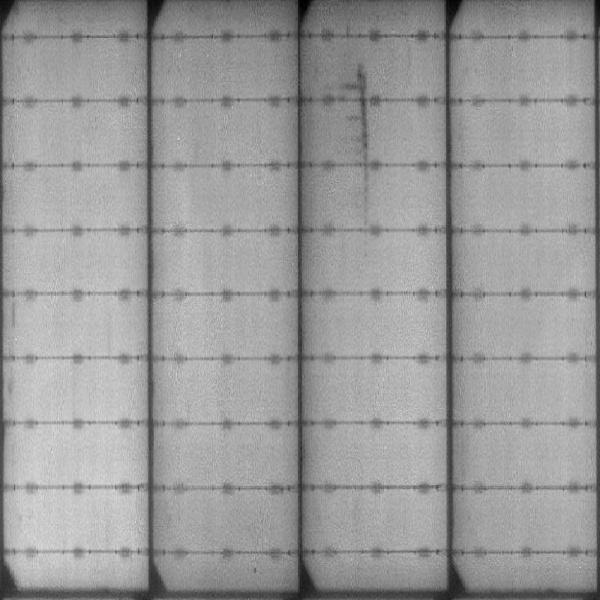scratch: (352, 99, 376, 160), (346, 65, 369, 98), (360, 166, 371, 221)
